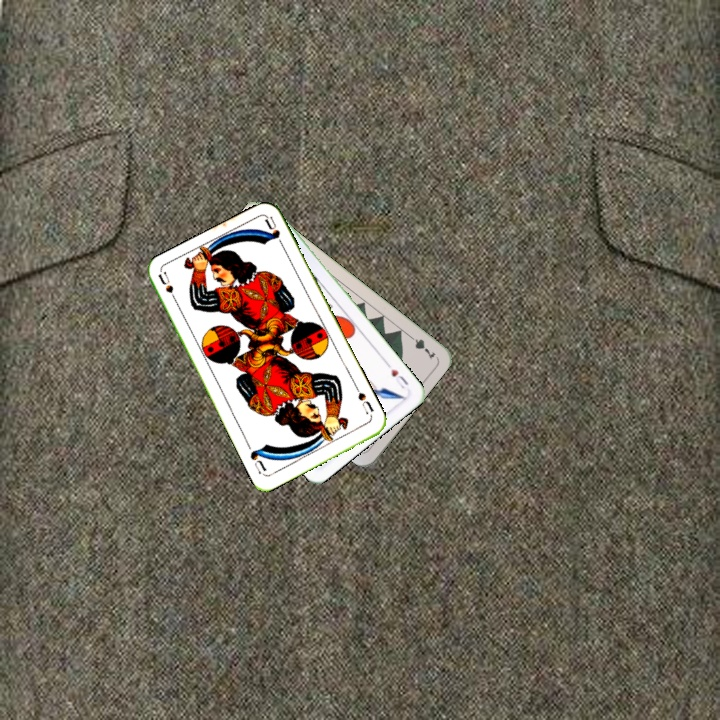G7: (403, 329, 438, 362)
HU: (382, 358, 411, 391)
SU: (154, 269, 181, 308), (351, 382, 376, 417)
